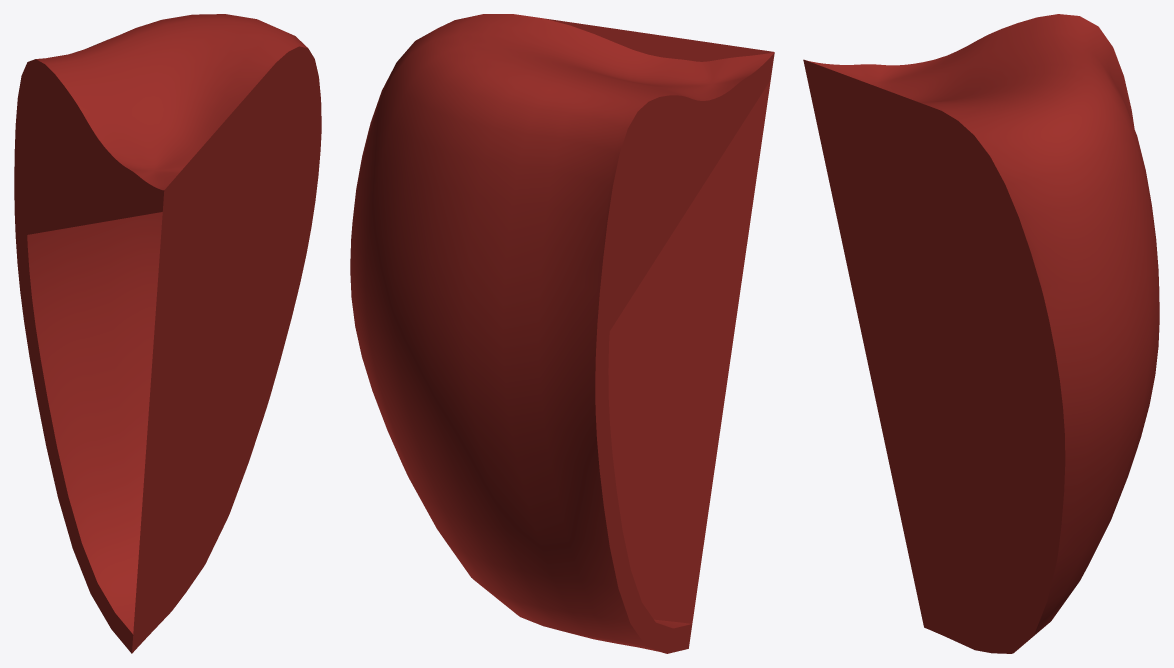
File: Pepper_Slice.fbx
The picture shows the model from 3 angles, left to right: view 1: azimuth 30°, elevation 25°; view 2: azimuth 150°, elevation 25°; view 3: azimuth 270°, elevation 25°; orthographic projection. The views are drawn at different scales.
Visible parts, largest first — view 1: Pepper; view 2: Pepper; view 3: Pepper.
Boxes of the visible parts, left/top/right/bottom form: Pepper: left=14, top=14, right=321, bottom=653; Pepper: left=350, top=14, right=774, bottom=653; Pepper: left=803, top=14, right=1159, bottom=653.
Bounding box in the file's own units: 1885 × 3690 × 1965.
